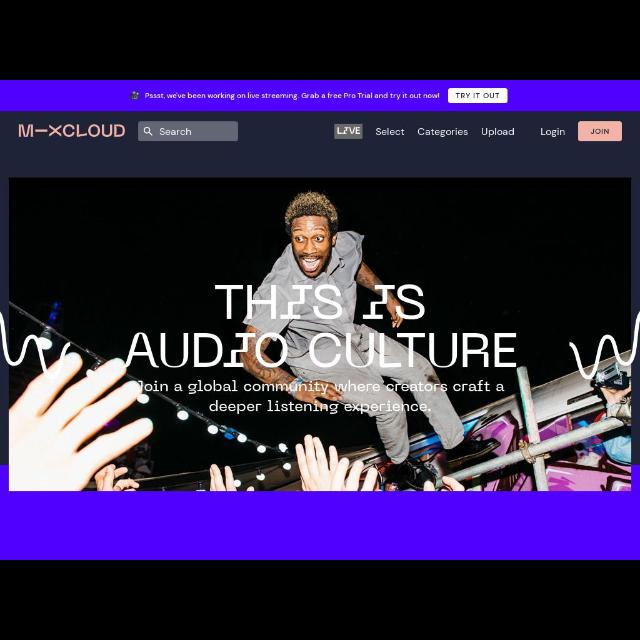icon: (144, 126, 152, 136)
image: (9, 178, 631, 492), (19, 124, 125, 138)
input: (138, 122, 238, 140)
text: (144, 92, 442, 101), (418, 126, 468, 138), (481, 128, 513, 138), (160, 128, 190, 138), (376, 128, 404, 138), (456, 94, 500, 100), (540, 127, 564, 137), (591, 128, 609, 134)
textbutton: (448, 88, 508, 102), (579, 122, 623, 140)
